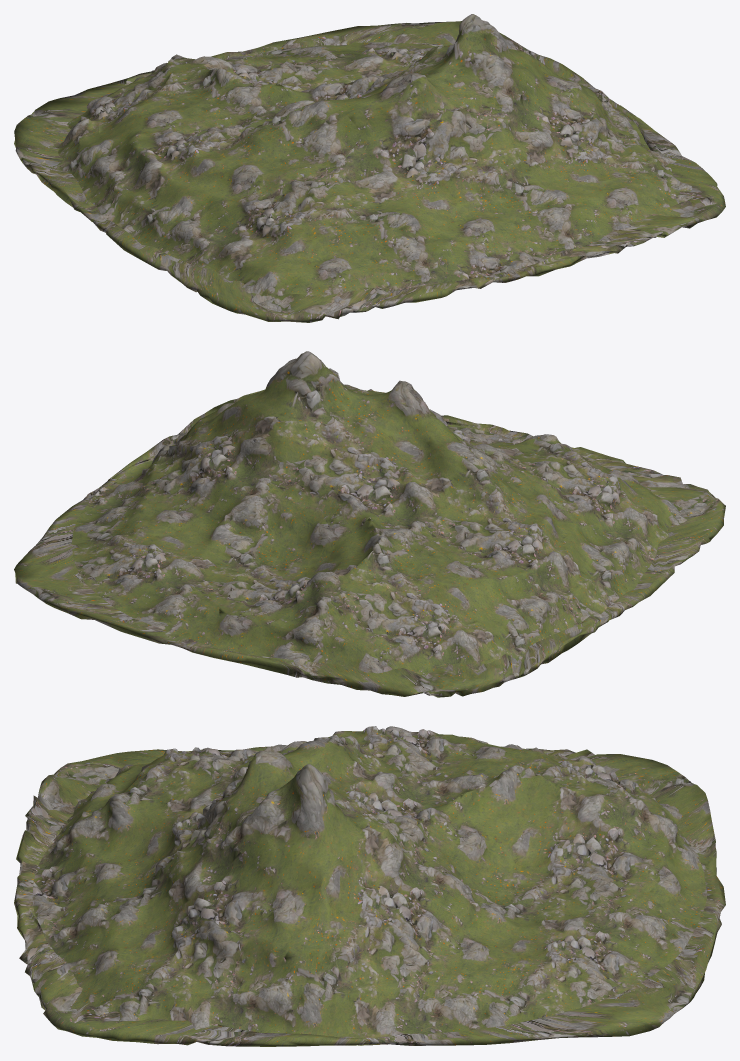
File: forest_terrain.glb
3 renders of one model, top to bottom at view 1: azimuth 30°, elevation 25°; view 2: azimuth 150°, elevation 25°; view 3: azimuth 270°, elevation 25°, orthographic. The views are drawn at different scales.
Visible parts, largest first — view 1: Landscape.004; view 2: Landscape.004; view 3: Landscape.004.
Part boxes in pixels (box(x1,y1,x2,y2)): Landscape.004: box(14, 14, 725, 322); Landscape.004: box(14, 351, 725, 697); Landscape.004: box(14, 726, 725, 1046).
Size of the model in its own units: 10.82 by 3.17 by 10.94.
Materials: 1 (1 with a texture image).
